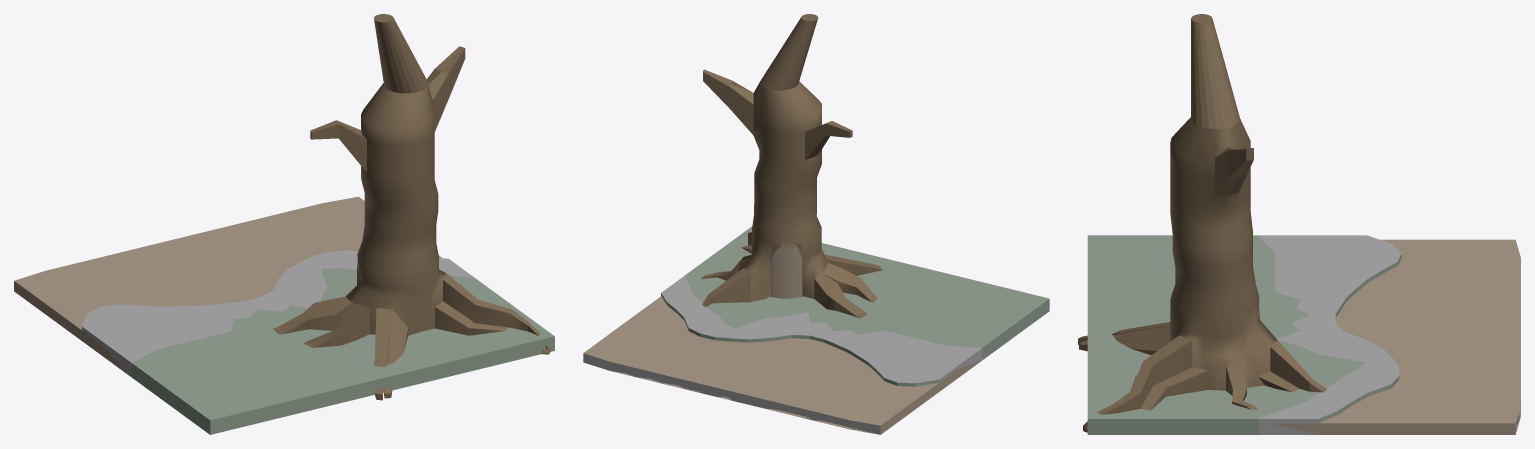
The model's file is page5.fbx.
The picture shows the model from 3 angles, left to right: view 1: azimuth 30°, elevation 25°; view 2: azimuth 150°, elevation 25°; view 3: azimuth 270°, elevation 25°; orthographic projection. The views are drawn at different scales.
Parts seen in each view (by area): view 1: page5, tree3; view 2: page5, tree3; view 3: page5, tree3.
Part boxes in pixels (x1,y1,x2,y2): page5: (14,196,554,434); tree3: (273,14,550,400); page5: (583,226,1049,434); tree3: (701,14,882,318); page5: (1087,235,1520,434); tree3: (1078,14,1327,432).
Size of the model in its own units: 16.84 by 15.26 by 17.16.
